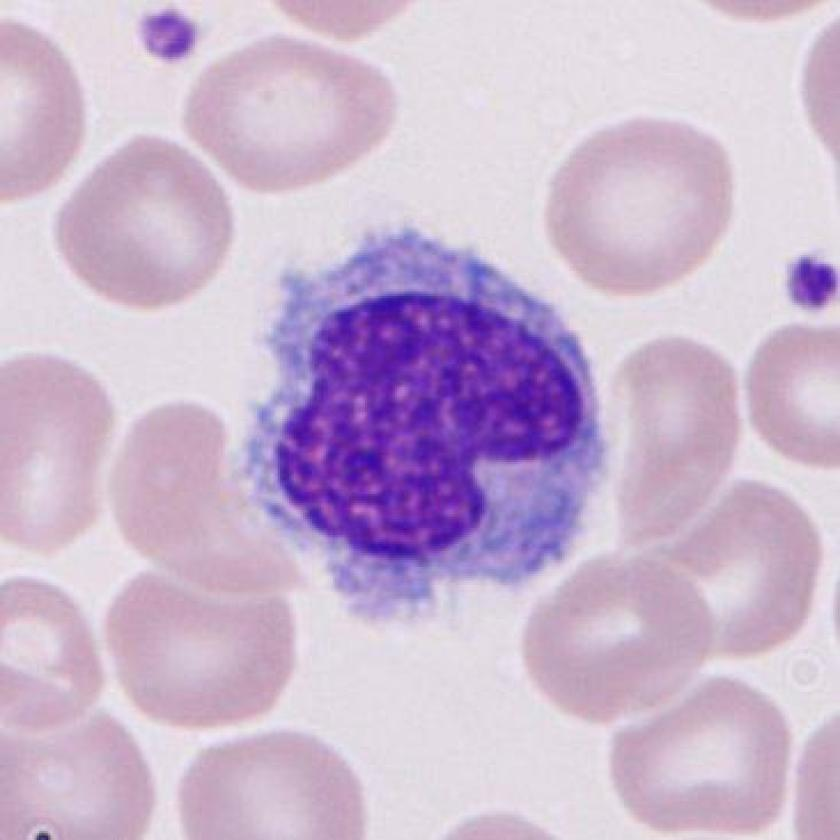monocyte: (219, 213, 644, 654)
